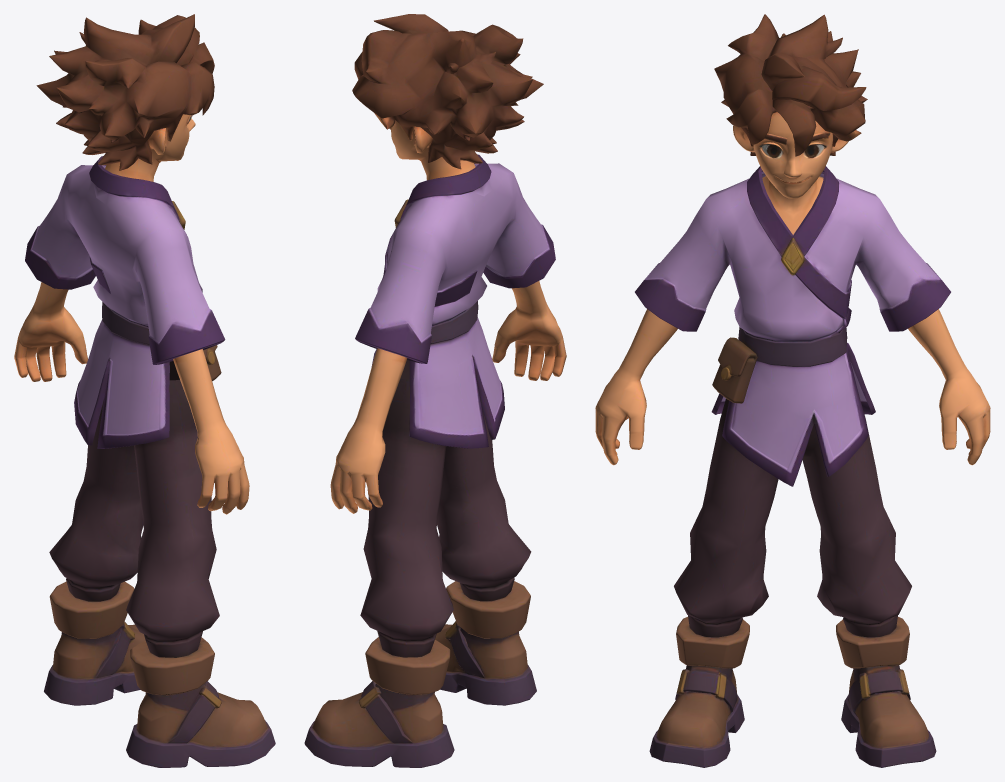
3 views of the same model, side by side, from view 1: azimuth 30°, elevation 25°; view 2: azimuth 150°, elevation 25°; view 3: azimuth 270°, elevation 25° (orthographic).
Parts seen in each view (by area): view 1: tripo_node_3cc91a2e; view 2: tripo_node_3cc91a2e; view 3: tripo_node_3cc91a2e.
Boxes of the visible parts, <box> form: tripo_node_3cc91a2e: <box>14,14,275,767</box>; tripo_node_3cc91a2e: <box>304,14,566,767</box>; tripo_node_3cc91a2e: <box>595,14,990,767</box>.
Size of the model in its own units: 24.95 by 99.95 by 51.03.
1 material, 1 textured.
